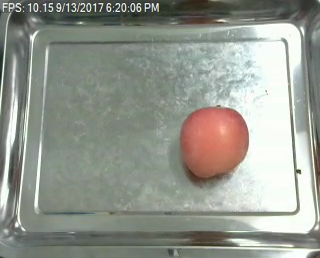Apple: (176, 102, 250, 181)
